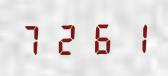one: (117, 19, 149, 54)
seven: (18, 21, 50, 56)
six: (84, 19, 116, 55)
two: (51, 20, 83, 56)
